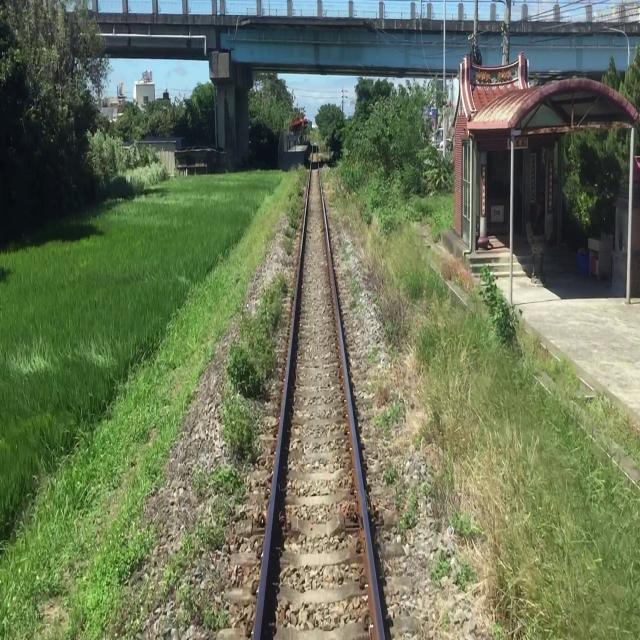track: (245, 137, 398, 640)
